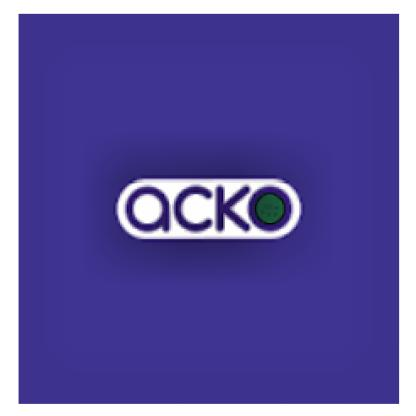ACKO: (116, 180, 303, 240)
